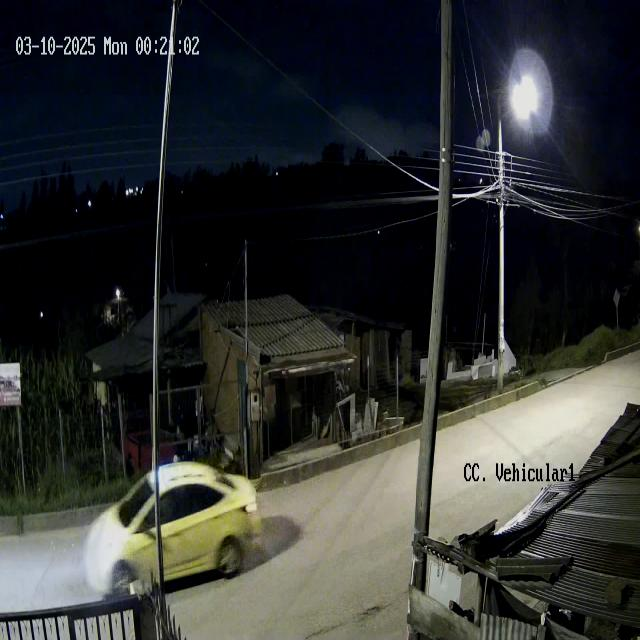SED: (85, 460, 262, 600)
